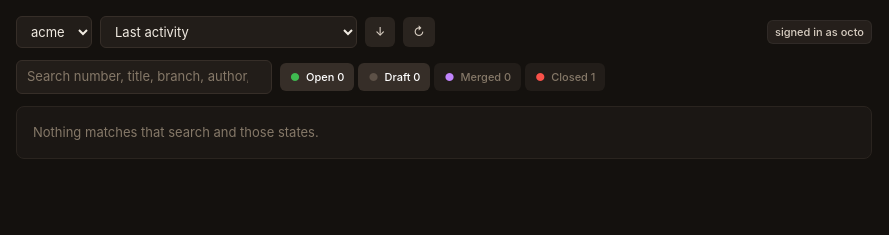
Test: the pull-request list › counts general notes, and dates a closed pull request only when GitHub says when
Click the button "● Closed 1" at point(565, 77), box left=525, top=62, right=605, bottom=91
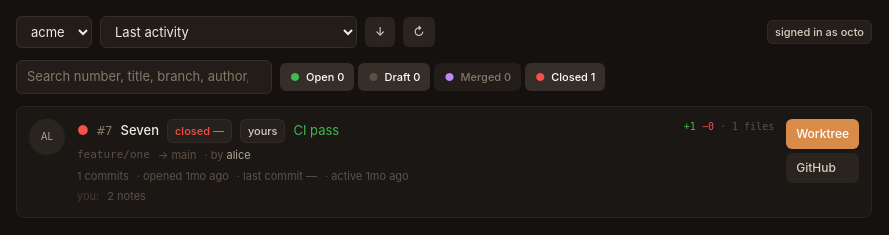
Expected: the text "Seven" is shown, left=120, top=121, right=159, bottom=140
Expected: the text "2 notes" is shown, left=107, top=188, right=146, bottom=204
